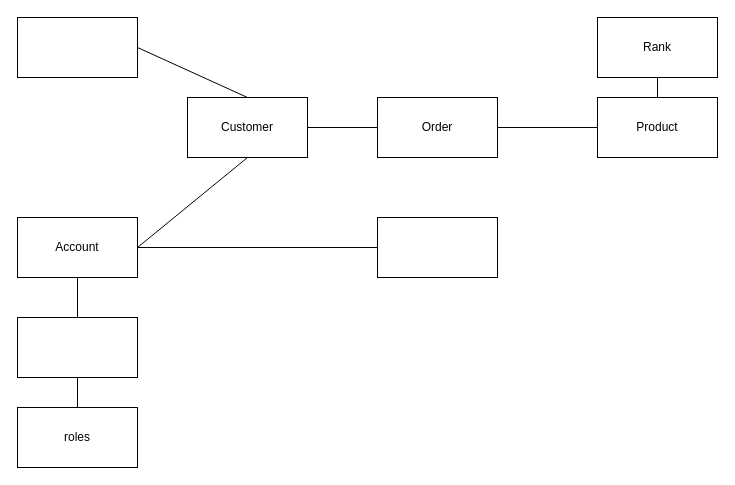
This 735x485 diagram has some shape labels left out. The box of each missing label's shape, as (x1, y1, x2, y2) in pixels:
Employee: (376, 216, 498, 278)
Type Customer: (16, 16, 138, 78)
user_role: (16, 316, 138, 378)
